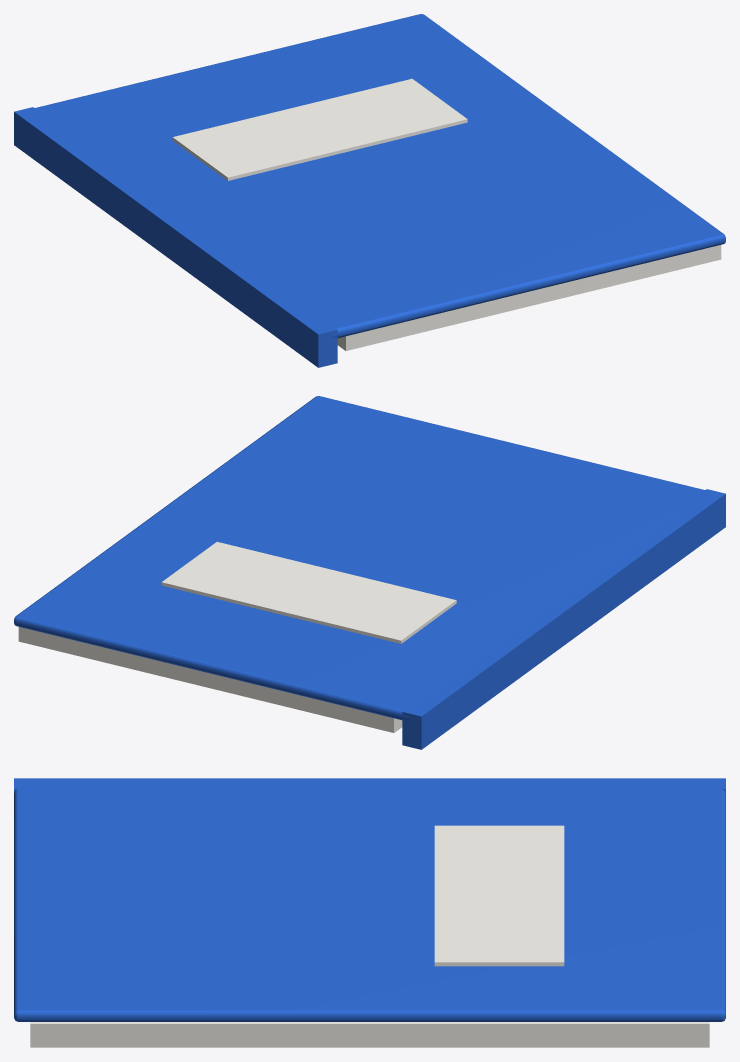
File: Report.fbx
3 views of the same model, one above another, from view 1: azimuth 30°, elevation 25°; view 2: azimuth 150°, elevation 25°; view 3: azimuth 270°, elevation 25° (orthographic). The views are drawn at different scales.
Visible parts, largest first — view 1: ReportBody; view 2: ReportBody; view 3: ReportBody.
Boxes of the visible parts, x1,y1,x2,y2 form: ReportBody: [14, 14, 725, 367]; ReportBody: [14, 396, 725, 749]; ReportBody: [14, 778, 725, 1047].
Bounding box in the file's own units: 0.2565 × 0.022 × 0.33.
